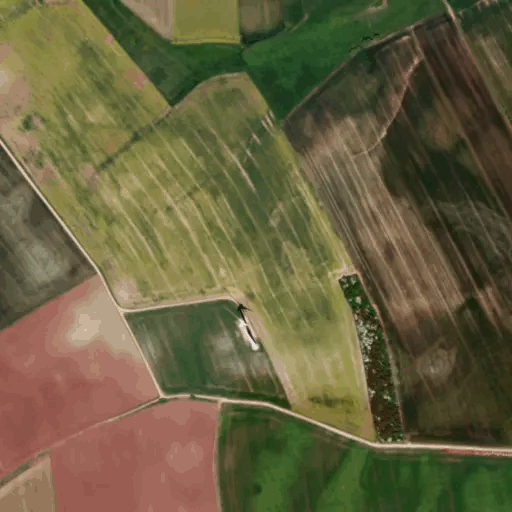wt: (222, 295, 271, 355)
